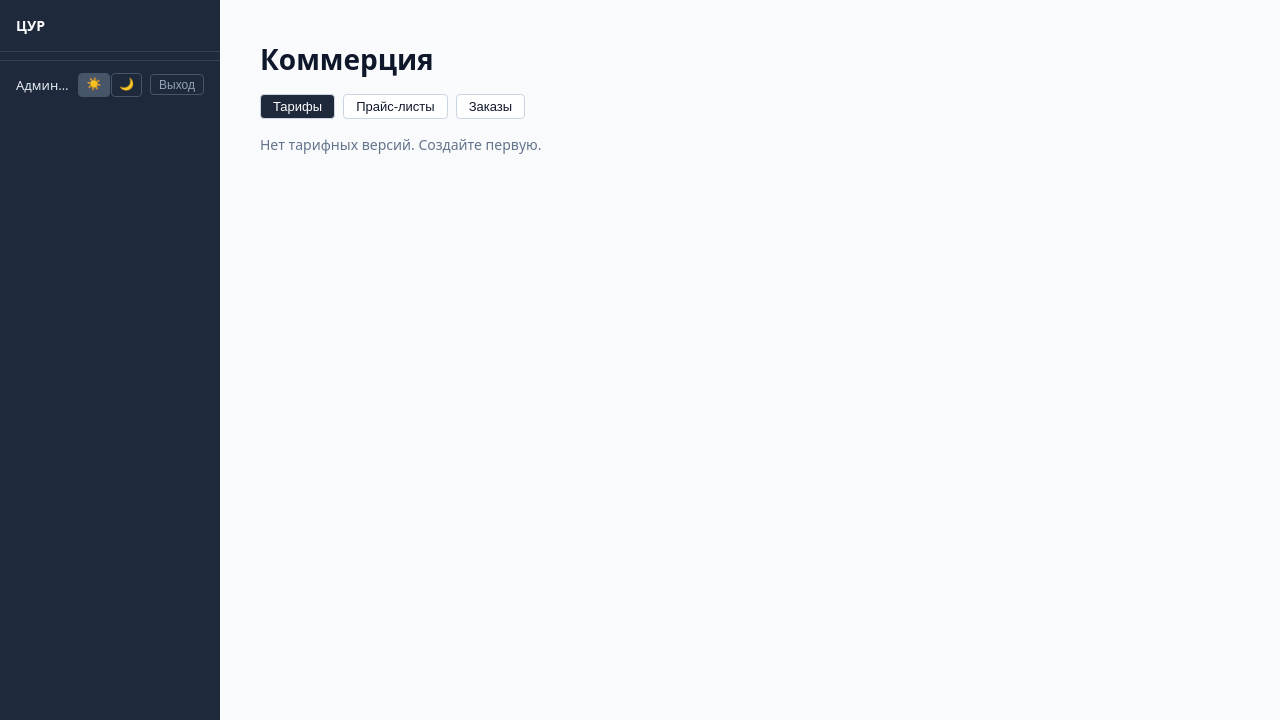
CommerceOrdersTab › shows order detail with lines on row click
The image size is (1280, 720).
Expected: the element with test id "commerce-tariffs-page" is shown, x1=260 y1=40 x2=542 y2=154
Click the button "Заказы" at (490, 106), box x1=456 y1=94 x2=525 y2=119
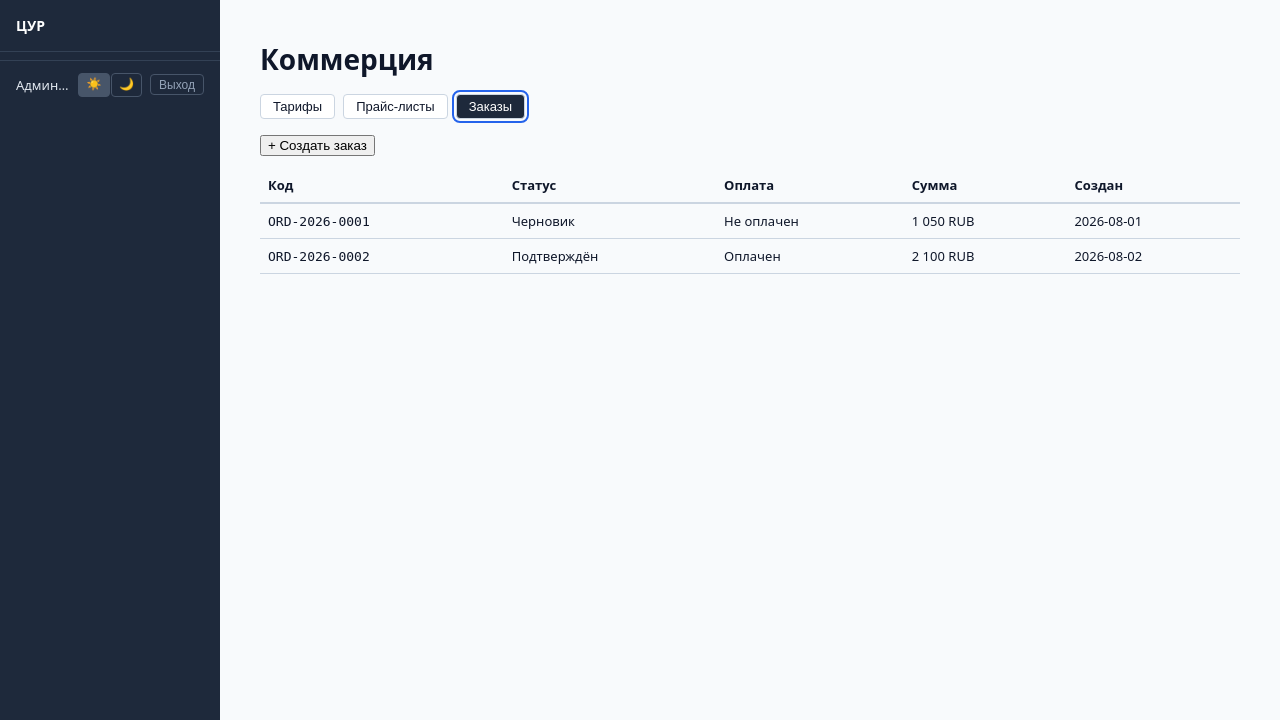
Result: the text "ORD-2026-0001" is shown at x1=268 y1=214 x2=370 y2=229
Click the row with test id "commerce-order-row-ord-1" at (750, 221), box x1=260 y1=203 x2=1240 y2=238
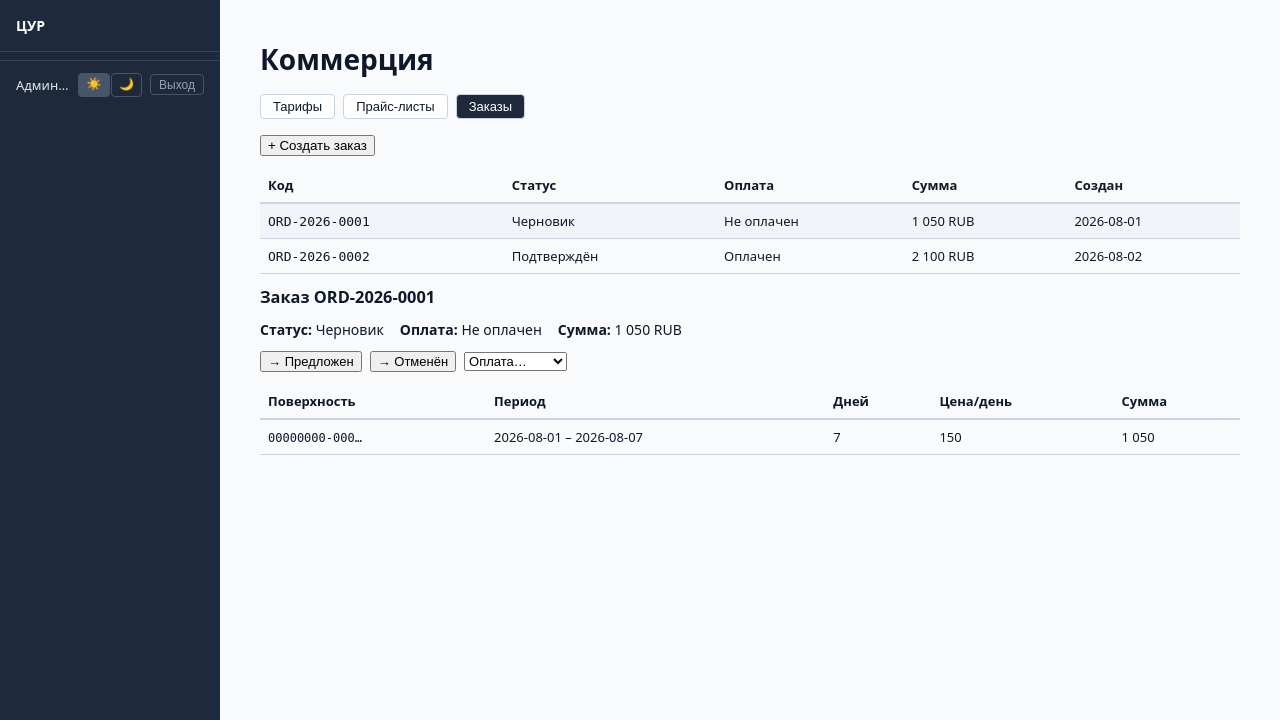
Result: the element with test id "commerce-order-detail" is shown at x1=260 y1=286 x2=1240 y2=455
Result: the table with test id "commerce-order-lines-table" is shown at x1=260 y1=384 x2=1240 y2=455
